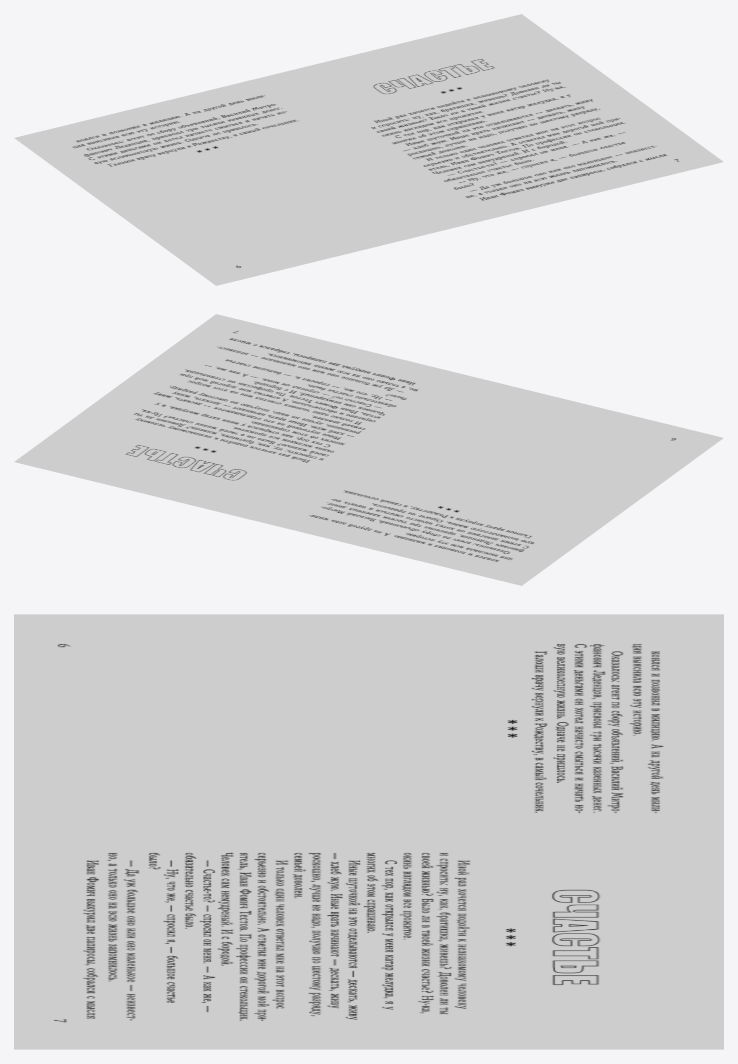
Rendered from asset.glb.
The picture shows the model from 3 angles, top to bottom: view 1: azimuth 30°, elevation 25°; view 2: azimuth 150°, elevation 25°; view 3: azimuth 270°, elevation 25°; orthographic projection. The views are drawn at different scales.
Parts seen in each view (by area): view 1: Plane; view 2: Plane; view 3: Plane.
Boxes of the visible parts, x1=… form: Plane: x1=14, y1=14, x2=723, y2=285; Plane: x1=14, y1=314, x2=723, y2=585; Plane: x1=14, y1=614, x2=723, y2=1049.
Bounding box in the file's own units: 29 × 0 × 20.
Materials: 1 (1 with a texture image).
